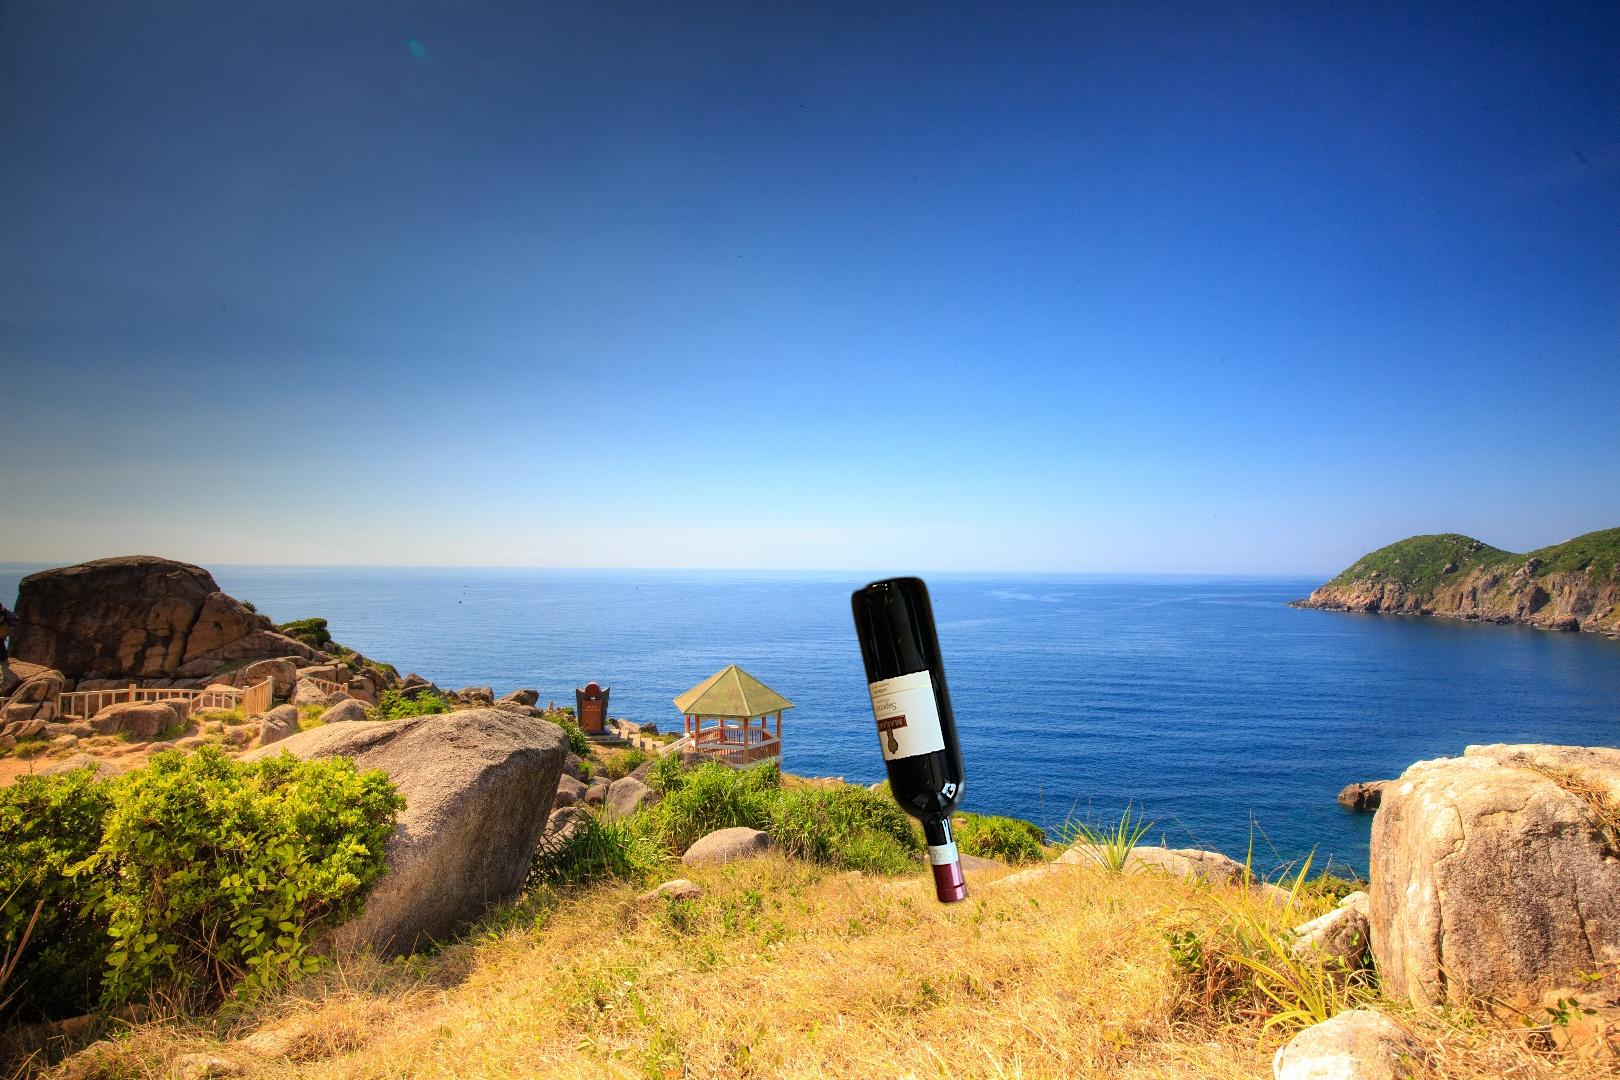glass: (847, 570, 972, 911)
